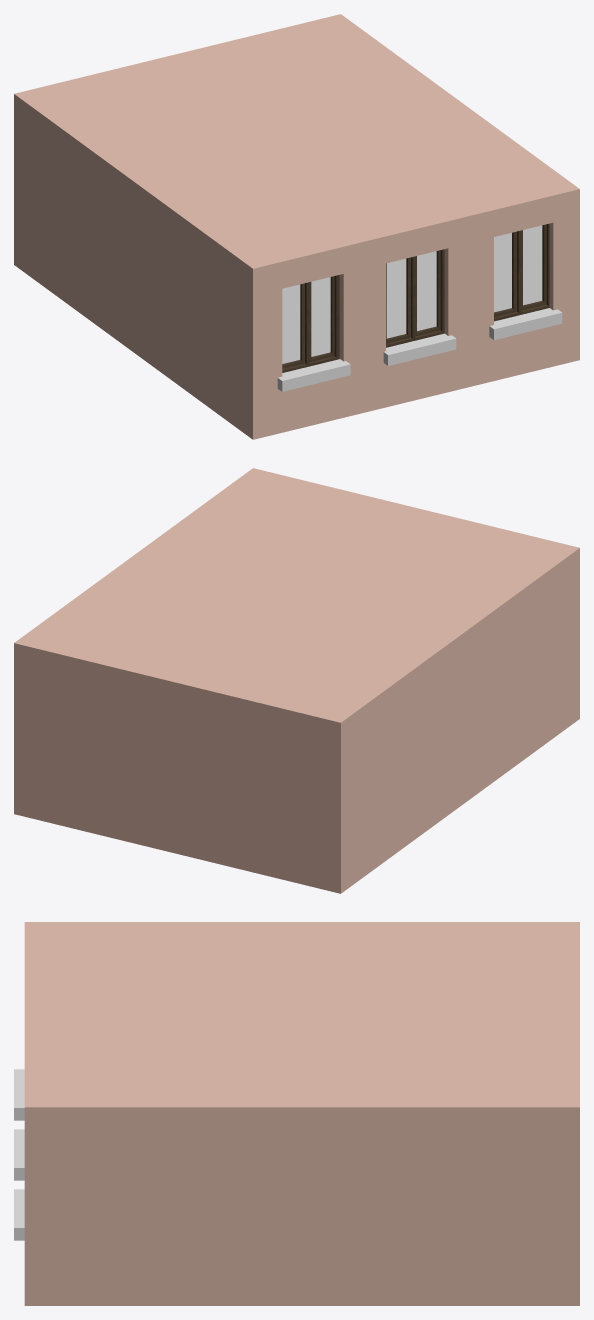
Rendered from Building_08_Windows.fbx.
The picture shows the model from 3 angles, top to bottom: view 1: azimuth 30°, elevation 25°; view 2: azimuth 150°, elevation 25°; view 3: azimuth 270°, elevation 25°; orthographic projection. The views are drawn at different scales.
Parts seen in each view (by area): view 1: Building_08_Windows; view 2: Building_08_Windows; view 3: Building_08_Windows.
Part boxes in pixels (left/top/right/bottom): Building_08_Windows: left=14, top=14, right=579, bottom=439; Building_08_Windows: left=14, top=468, right=579, bottom=893; Building_08_Windows: left=14, top=922, right=579, bottom=1305.
Bounding box in the file's own units: 6 × 3 × 7.75.
